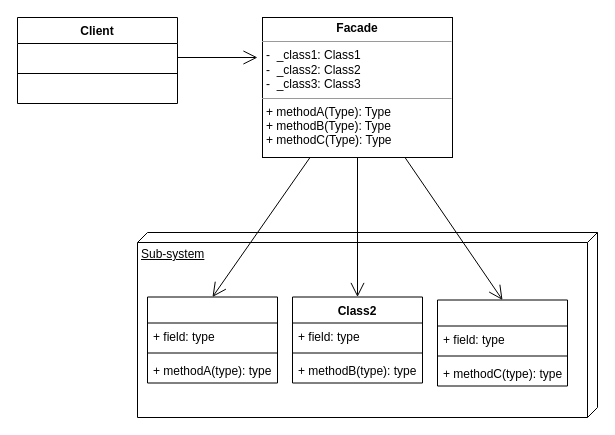
Some shapes in this 615 by 435 pixel diagram are drawn without their labels. The box of each missing label's shape, as (x1, y1, x2, y2) in pixels:
Class1: (146, 296, 278, 383)
Class3: (436, 299, 568, 386)
